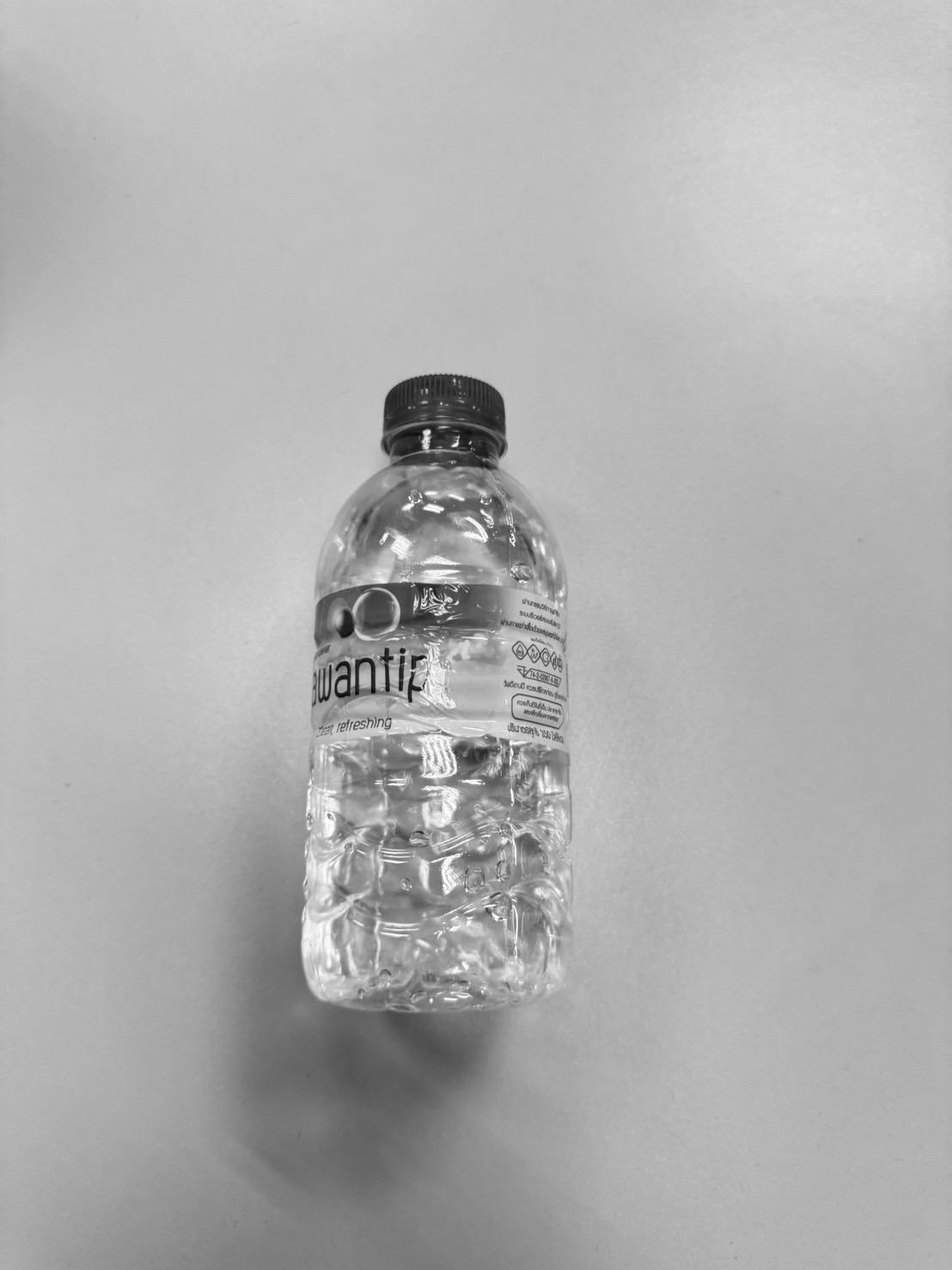bottle: (301, 375, 571, 1013)
